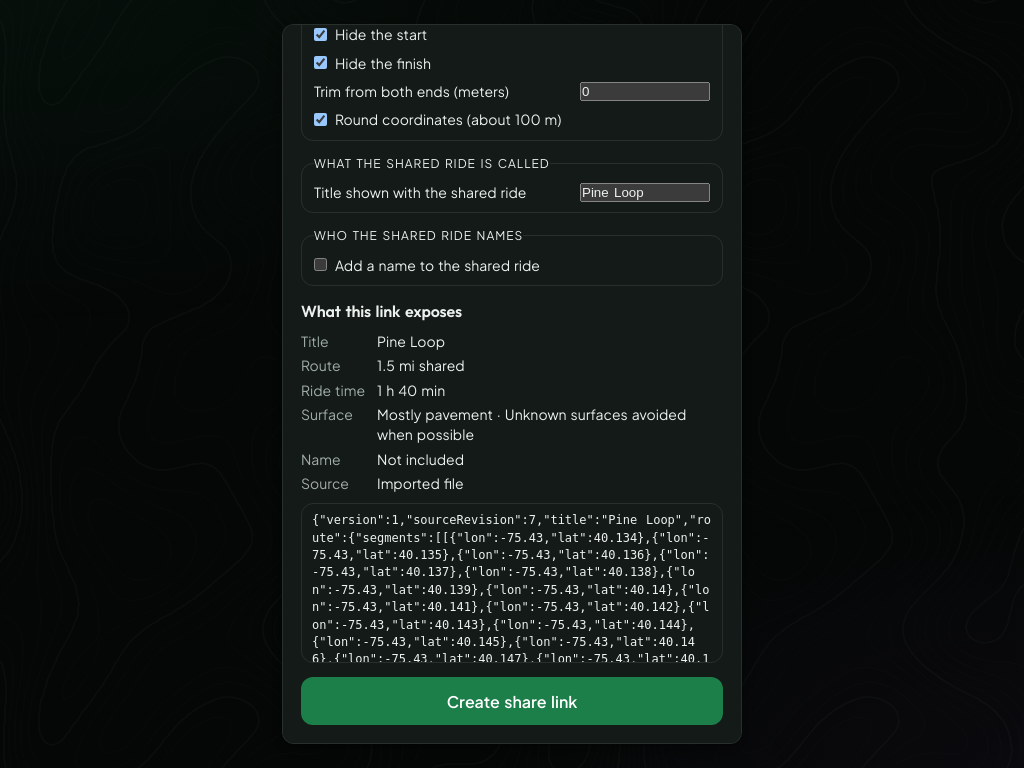
Scenario: ShareSheet — the phone's share sheet (IO-01) › keeps Copy link as the only action without a share sheet
This screenshot has width=1024, height=768.
(page scrolled)
Click the button with test id "share-publish": {"x": 512, "y": 701} [301,677,723,725]
(page scrolled)
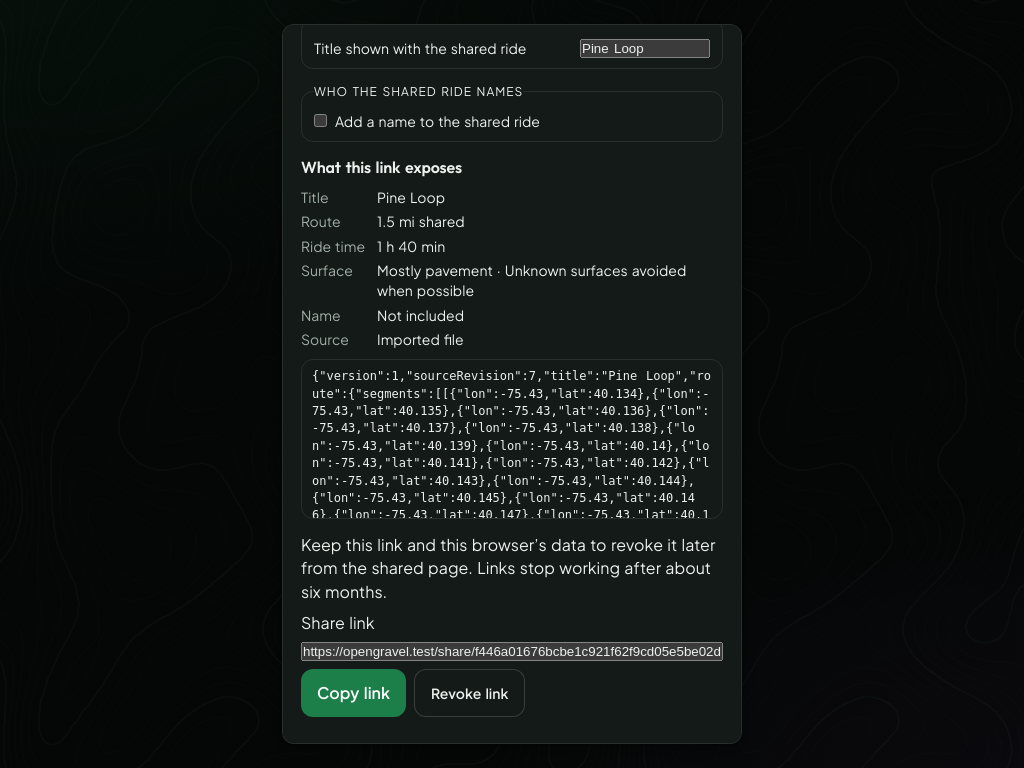
Expected: the field with test id "share-link" is shown, [301,642,723,661]
